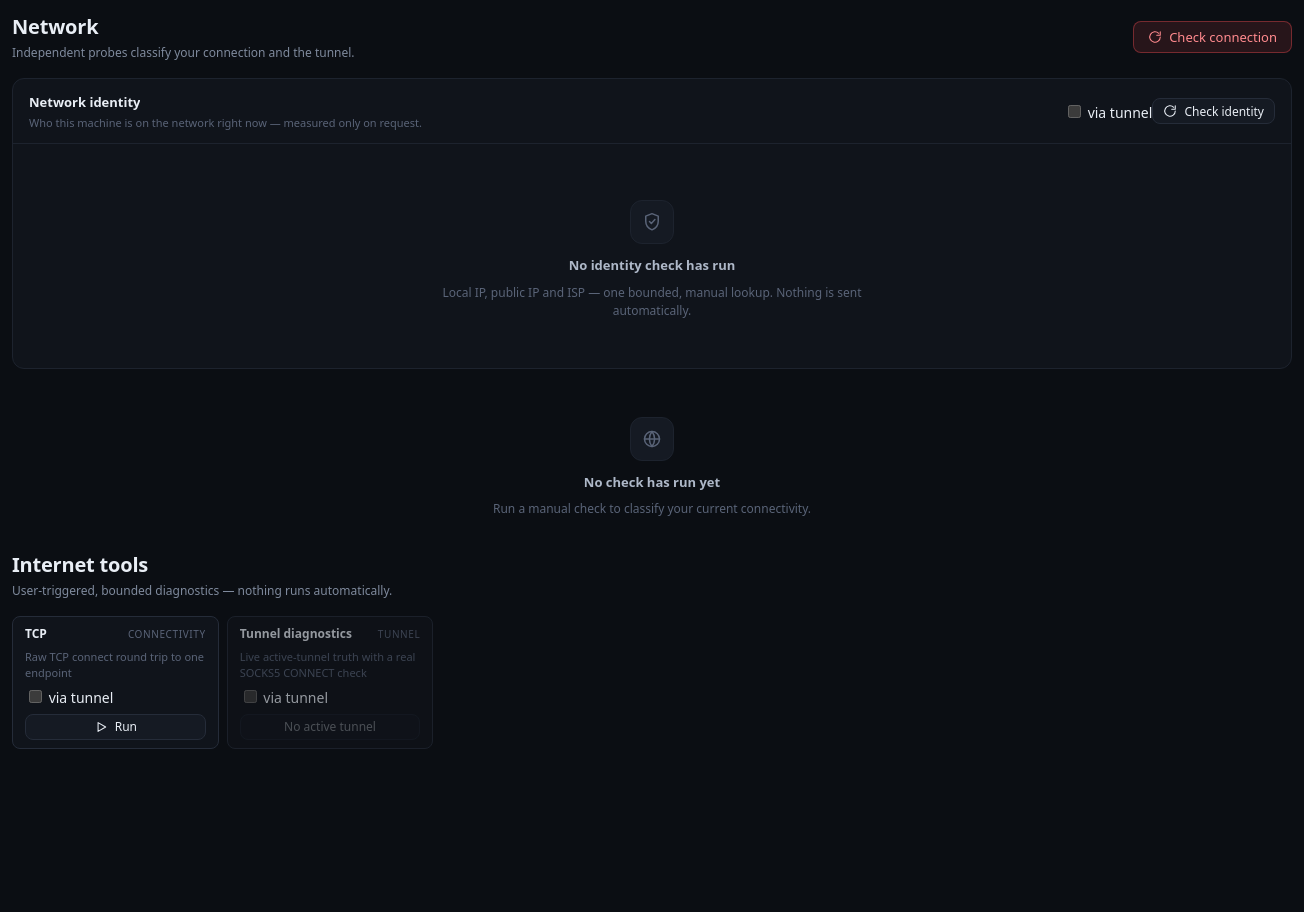
Network v0.12.1 status semantics › renders status not_configured in the badge info band (never red for prerequisites)
// Run the TCP tool from its card — the only trigger.
Step 1. Click the button "Run" → (115, 727), box 25,714 -> 206,740
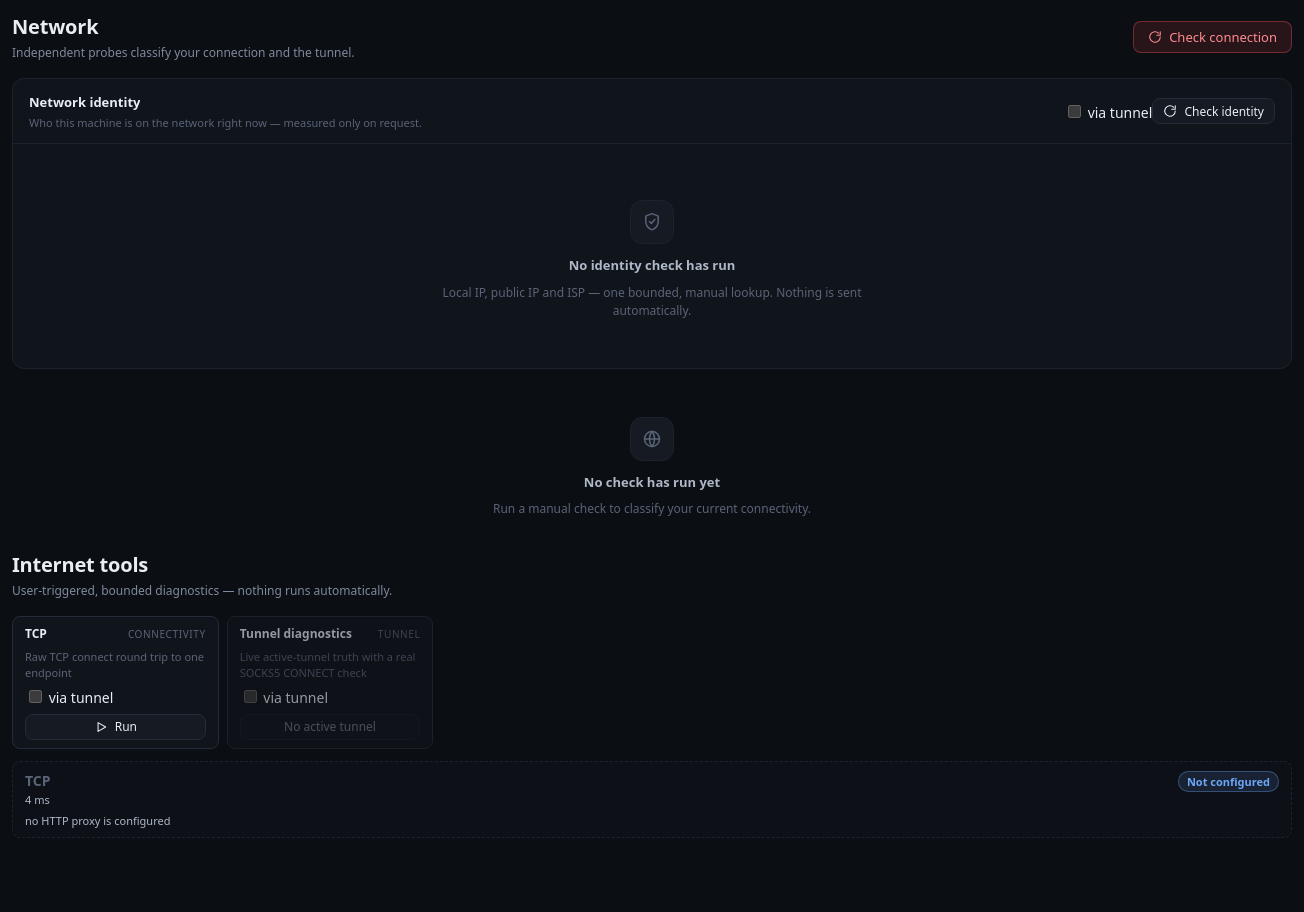
Expected: the text "Not configured" is shown, 1178,771 -> 1279,792
